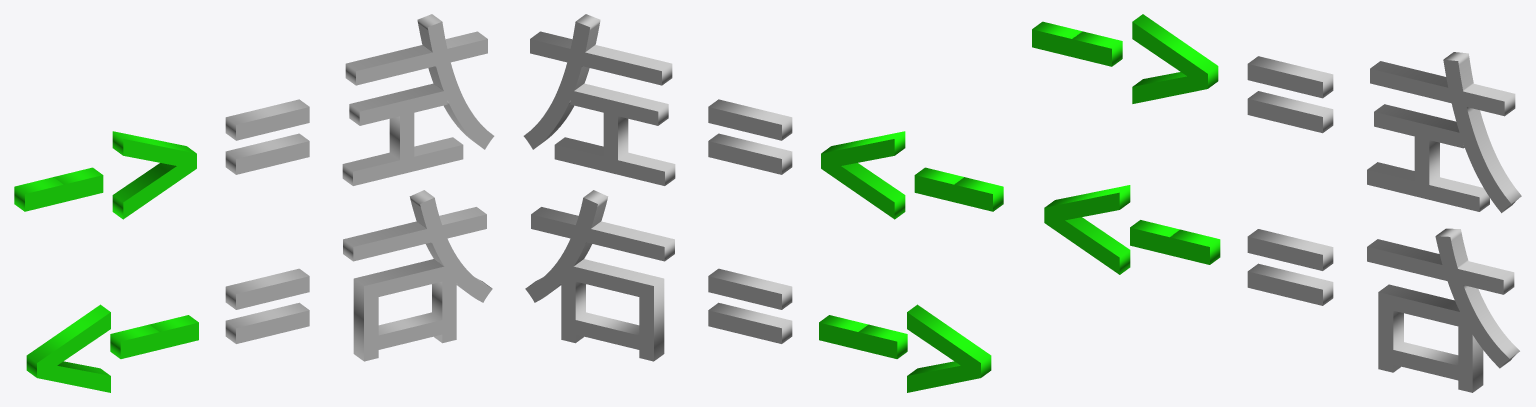
The model's file is rightleft.obj.
3 renders of one model, left to right at view 1: azimuth 30°, elevation 25°; view 2: azimuth 150°, elevation 25°; view 3: azimuth 330°, elevation 25°, orthographic. The views are drawn at different scales.
Visible parts, largest first — view 1: Text.001, Text, Text.003, Text.004, Text.011, Text.008, Text.009, Text.007, Text.010, Text.006; view 2: Text.001, Text, Text.003, Text.004, Text.011, Text.008, Text.009, Text.007, Text.010, Text.006; view 3: Text.001, Text, Text.003, Text.004, Text.008, Text.011, Text.006, Text.010, Text.009, Text.007.
Part boxes in pixels (x1=…): Text.001: x1=343, y1=190, x2=492, y2=361; Text: x1=342, y1=14, x2=494, y2=185; Text.003: x1=225, y1=99, x2=309, y2=174; Text.004: x1=225, y1=268, x2=309, y2=343; Text.011: x1=112, y1=131, x2=196, y2=219; Text.008: x1=26, y1=304, x2=110, y2=392; Text.009: x1=14, y1=177, x2=64, y2=211; Text.007: x1=110, y1=324, x2=159, y2=358; Text.010: x1=54, y1=167, x2=103, y2=202; Text.006: x1=149, y1=315, x2=198, y2=349; Text.001: x1=525, y1=190, x2=674, y2=361; Text: x1=523, y1=14, x2=675, y2=185; Text.003: x1=708, y1=99, x2=792, y2=174; Text.004: x1=708, y1=268, x2=792, y2=343; Text.011: x1=821, y1=131, x2=905, y2=219; Text.008: x1=907, y1=304, x2=991, y2=392; Text.009: x1=953, y1=177, x2=1003, y2=211; Text.007: x1=858, y1=324, x2=907, y2=358; Text.010: x1=914, y1=167, x2=963, y2=201; Text.006: x1=819, y1=315, x2=868, y2=349; Text.001: x1=1367, y1=228, x2=1519, y2=392; Text: x1=1367, y1=52, x2=1521, y2=213; Text.003: x1=1247, y1=56, x2=1333, y2=133; Text.004: x1=1247, y1=229, x2=1333, y2=305; Text.008: x1=1044, y1=185, x2=1130, y2=274; Text.011: x1=1132, y1=14, x2=1218, y2=103; Text.006: x1=1169, y1=229, x2=1220, y2=264; Text.010: x1=1071, y1=31, x2=1122, y2=66; Text.009: x1=1032, y1=21, x2=1082, y2=56; Text.007: x1=1130, y1=220, x2=1179, y2=255.
Bounding box in the file's own units: 3.14 × 2.05 × 0.12.
